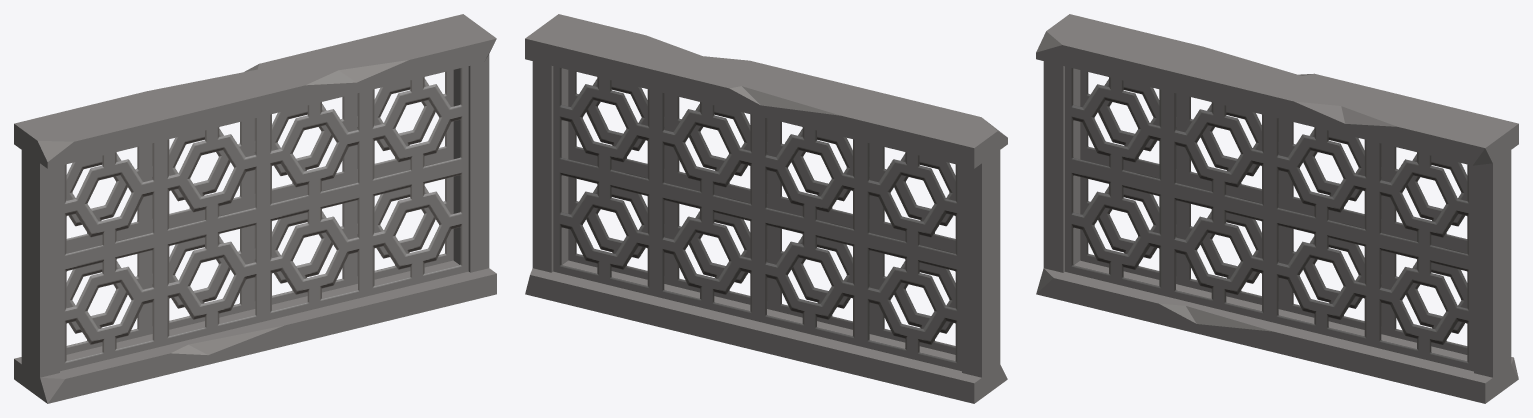
The model's file is SM_Bld_Decorative_Block_05.fbx.
The picture shows the model from 3 angles, left to right: view 1: azimuth 30°, elevation 25°; view 2: azimuth 150°, elevation 25°; view 3: azimuth 330°, elevation 25°; orthographic projection.
Visible parts, largest first — view 1: SM_Bld_Decorative_Block_05; view 2: SM_Bld_Decorative_Block_05; view 3: SM_Bld_Decorative_Block_05.
Part boxes in pixels (x1=…): SM_Bld_Decorative_Block_05: x1=14, y1=14, x2=496, y2=403; SM_Bld_Decorative_Block_05: x1=525, y1=14, x2=1007, y2=403; SM_Bld_Decorative_Block_05: x1=1036, y1=14, x2=1518, y2=403.
Size of the model in its own units: 182 by 98.98 by 23.56.
